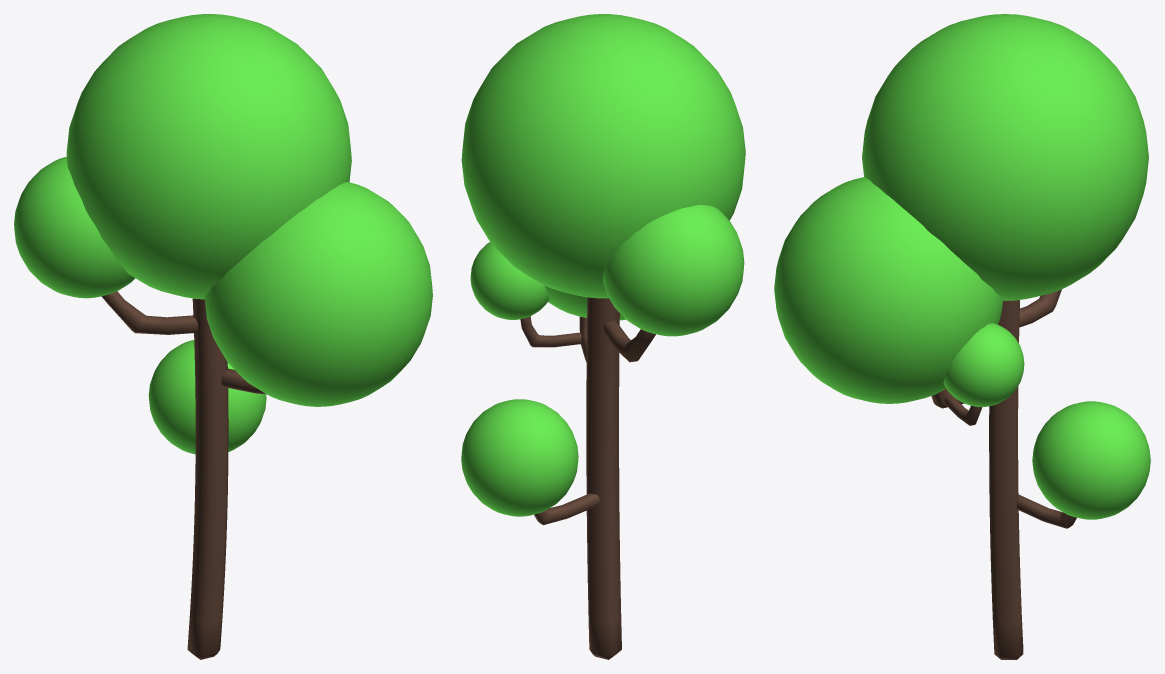
File: Tree1.fbx
3 views of the same model, side by side, from view 1: azimuth 30°, elevation 25°; view 2: azimuth 150°, elevation 25°; view 3: azimuth 270°, elevation 25° (orthographic).
Parts seen in each view (by area): view 1: Tree1; view 2: Tree1; view 3: Tree1.
Boxes of the visible parts, bbox=[...] form: Tree1: bbox=[14, 14, 432, 659]; Tree1: bbox=[461, 14, 745, 659]; Tree1: bbox=[774, 14, 1150, 659].
Bounding box in the file's own units: 785 × 1452 × 748.
